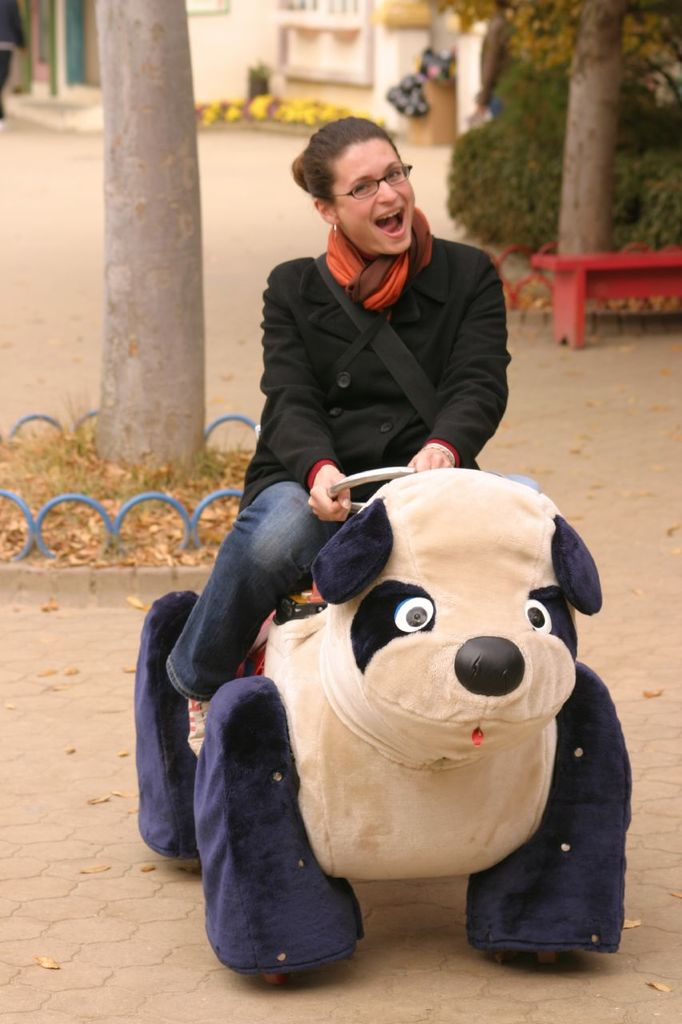Animal: (123, 457, 635, 985)
